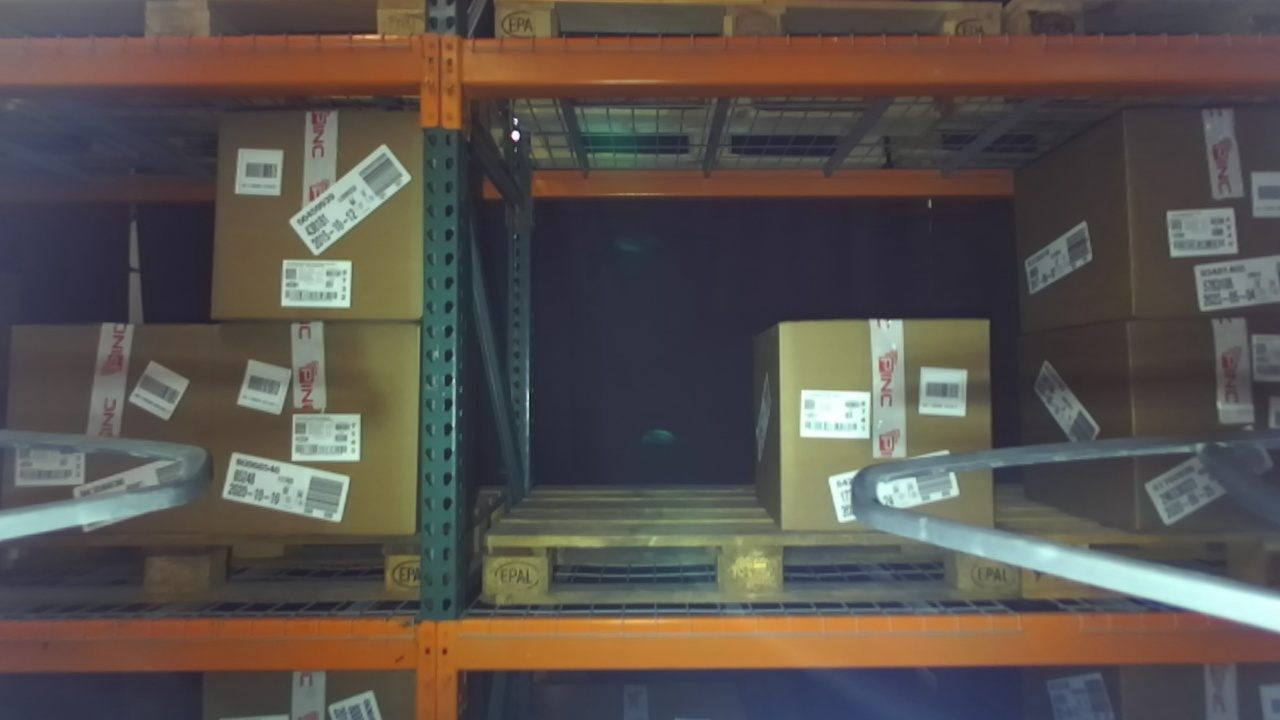box: (752, 288, 1002, 540), (191, 87, 435, 338), (2, 302, 220, 558), (200, 303, 423, 543), (1092, 94, 1280, 331), (1096, 305, 1280, 547)
